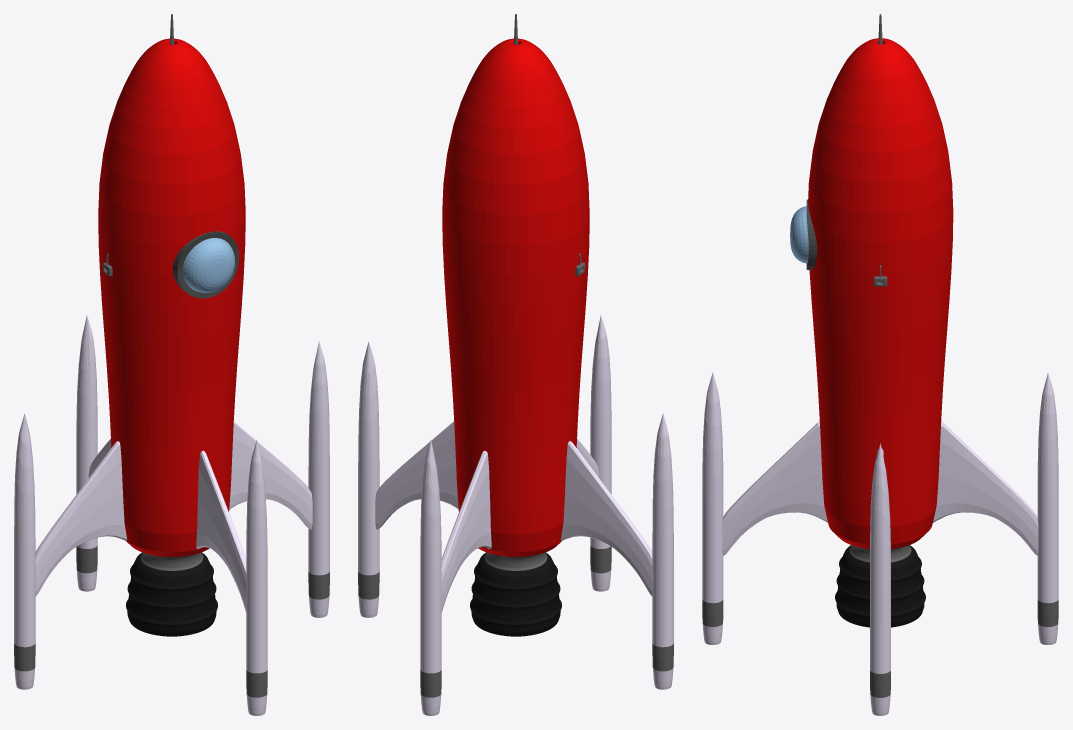
Rendered from rocket_model4_.fbx.
3 views of the same model, side by side, from view 1: azimuth 30°, elevation 25°; view 2: azimuth 150°, elevation 25°; view 3: azimuth 270°, elevation 25° (orthographic).
Visible parts, largest first — view 1: Cylinder, Cylinder.003, Cylinder.002, Cylinder.001, Cylinder.004, Sphere; view 2: Cylinder, Cylinder.003, Cylinder.002, Cylinder.004, Cylinder.001; view 3: Cylinder, Cylinder.001, Cylinder.004, Cylinder.002, Sphere.
Part boxes in pixels (x1,y1,x2,y2): Cylinder: (98, 38, 245, 636); Cylinder.003: (14, 413, 127, 689); Cylinder.002: (229, 341, 329, 617); Cylinder.001: (196, 440, 267, 715); Cylinder.004: (76, 315, 111, 591); Sphere: (172, 231, 239, 298); Cylinder: (442, 38, 589, 636); Cylinder.003: (560, 413, 673, 689); Cylinder.002: (358, 341, 458, 617); Cylinder.004: (420, 440, 491, 715); Cylinder.001: (576, 315, 611, 591); Cylinder: (808, 38, 953, 627); Cylinder.001: (702, 372, 827, 644); Cylinder.004: (933, 372, 1058, 644); Cylinder.002: (870, 443, 890, 715); Sphere: (790, 199, 817, 270).
Size of the model in its own units: 611 by 1188 by 611.
